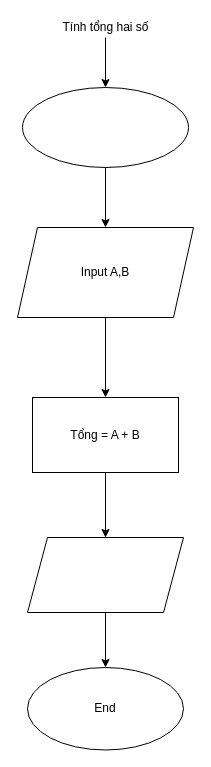
This 211x767 diagram has some shape labels left out. Each missing label, with the centre of its shape:
Output Tổng: pixel 105 574
Start: pixel 105 127
